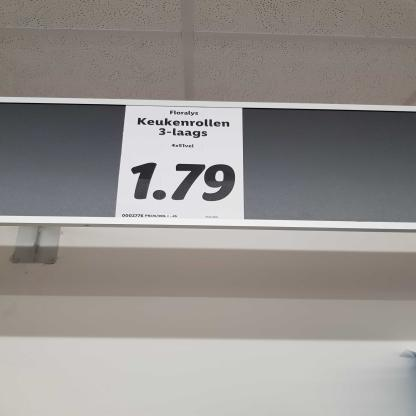prtg: (116, 107, 245, 221)
